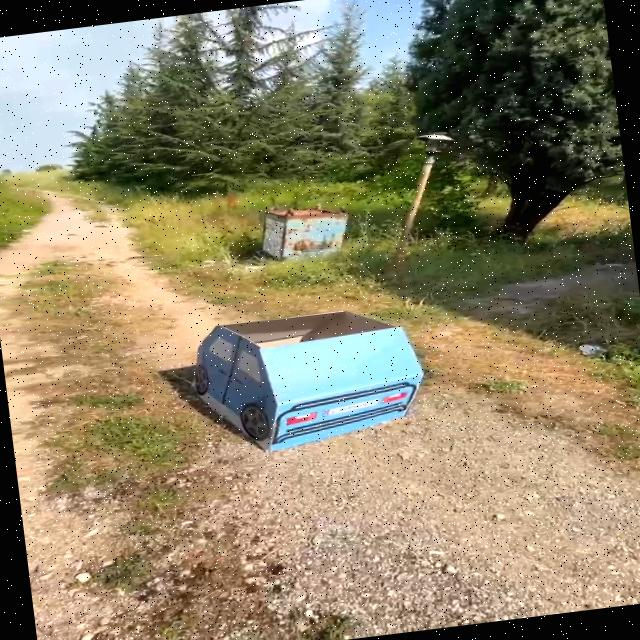blue_car: (165, 288, 442, 467)
